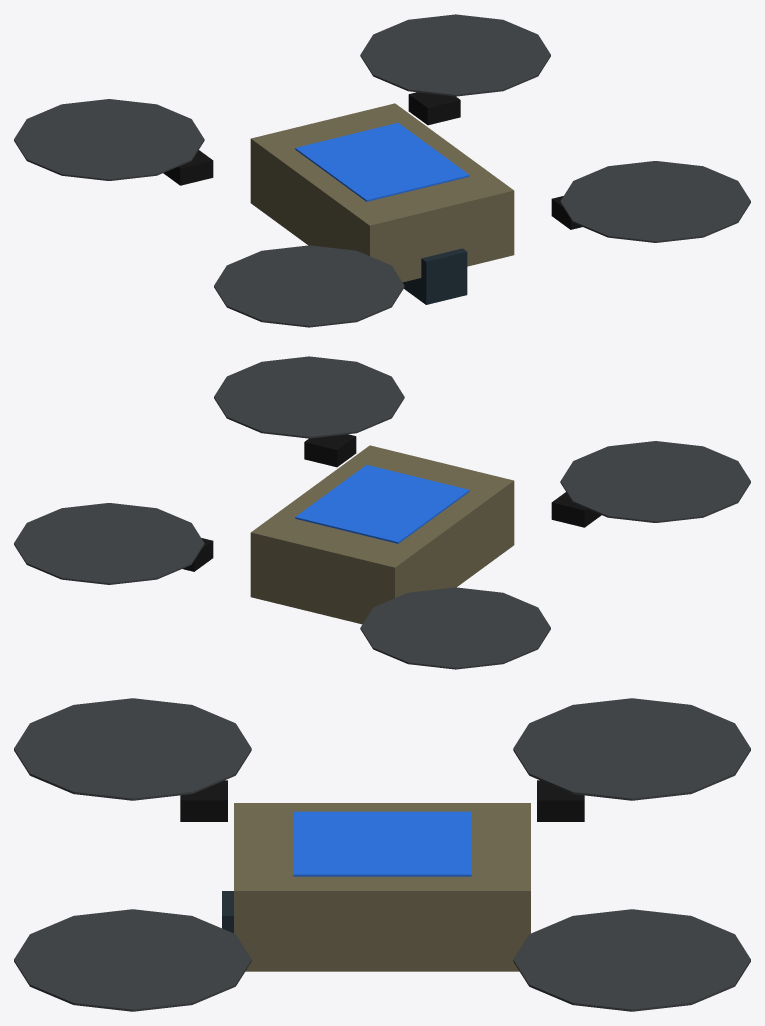
File: us_attack_heli.glb
3 views of the same model, one above another, from view 1: azimuth 30°, elevation 25°; view 2: azimuth 150°, elevation 25°; view 3: azimuth 270°, elevation 25° (orthographic). The views are drawn at different scales.
Visible parts, largest first — view 1: body, rotor_0, rotor_3, rotor_1, rotor_2, team_plate, camera_pod, arm_3, arm_2; view 2: body, rotor_1, rotor_2, rotor_0, rotor_3, team_plate, arm_1, arm_0; view 3: body, rotor_0, rotor_1, rotor_2, rotor_3, team_plate, arm_0, arm_2.
Part boxes in pixels (box(x1,y1,x2,y2)): body: box(250, 103, 514, 282); rotor_0: box(214, 245, 404, 327); rotor_3: box(360, 14, 550, 96); rotor_1: box(560, 161, 750, 242); rotor_2: box(14, 99, 204, 180); team_plate: box(295, 123, 469, 201); camera_pod: box(402, 248, 467, 304); arm_3: box(408, 92, 460, 125); arm_2: box(163, 150, 213, 185); body: box(250, 445, 514, 624); rotor_1: box(214, 356, 404, 438); rotor_2: box(360, 587, 550, 669); rotor_0: box(560, 441, 750, 522); rotor_3: box(14, 503, 204, 584); team_plate: box(295, 465, 469, 543); arm_1: box(304, 434, 356, 467); arm_0: box(551, 492, 601, 527); body: box(234, 803, 530, 971); rotor_0: box(14, 698, 251, 800); rotor_1: box(14, 909, 251, 1011); rotor_2: box(513, 698, 750, 800); rotor_3: box(513, 909, 750, 1011); team_plate: box(293, 811, 471, 876); arm_0: box(180, 780, 227, 821); arm_2: box(537, 780, 584, 821).
Size of the model in its own units: 6.2 by 1.06 by 6.2.
